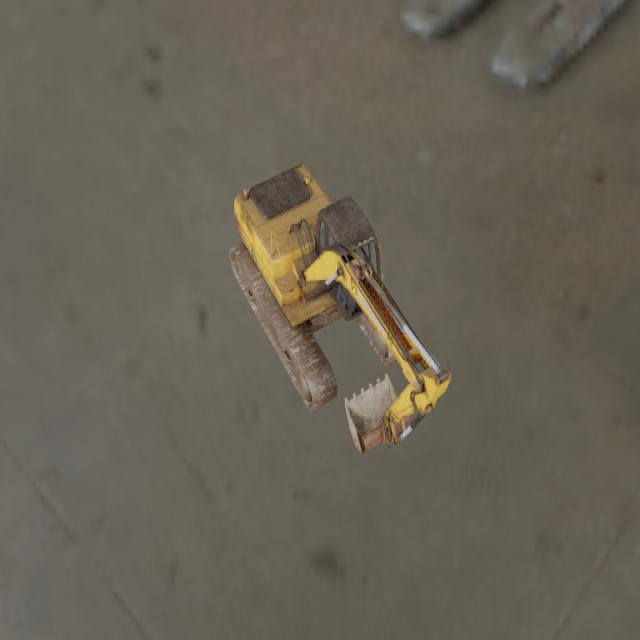excavator: (229, 163, 451, 453)
